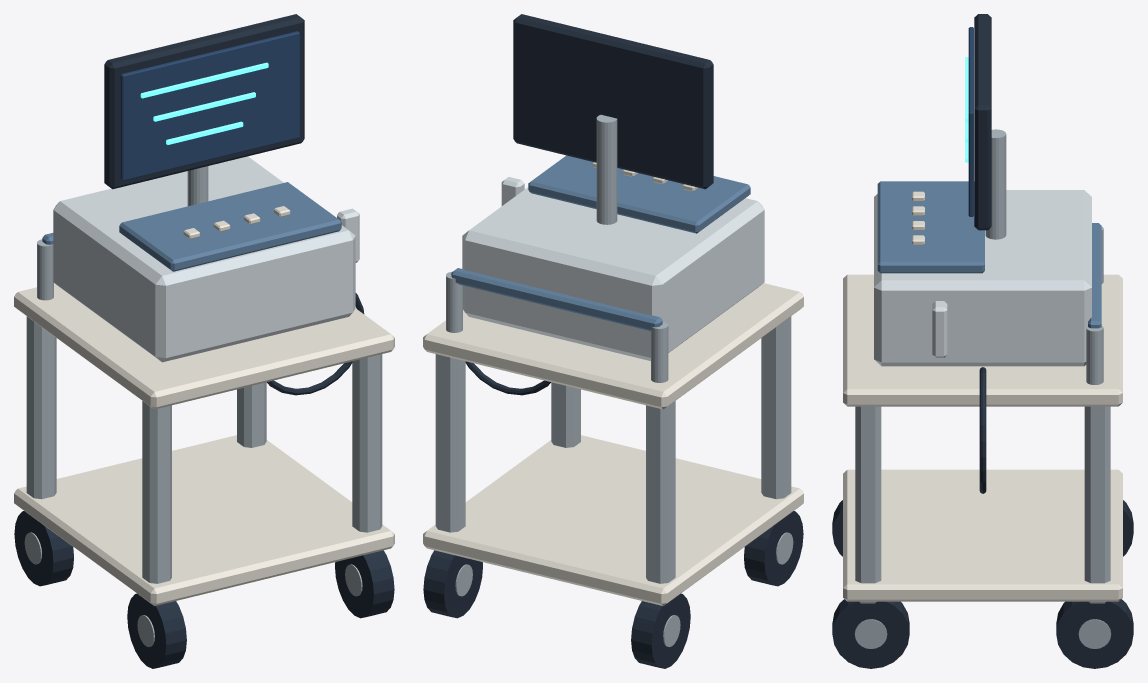
File: medical_02.glb
3 renders of one model, left to right at view 1: azimuth 30°, elevation 25°; view 2: azimuth 150°, elevation 25°; view 3: azimuth 270°, elevation 25°, orthographic.
Visible parts, largest first — view 1: Shelf (×2), InstrumentBody, Screen, Leg (×4), InputPanel, Wheel (×3), MonitorFrame, DisplayLine (×2), HandlePost, DisplayMast, ProbeCable, UltrasoundProbe; view 2: Shelf (×2), InstrumentBody, MonitorFrame, Leg (×4), Wheel (×3), InputPanel, PushHandle, DisplayMast, HandlePost (×2), ProbeCable; view 3: Shelf (×2), InstrumentBody, Leg (×2), InputPanel, Wheel (×4), MonitorFrame, DisplayMast, WheelHub (×2), Screen, PushHandle, HandlePost, ProbeCable (+1 smaller).
Boxes of the visible parts, box(x1,y1,x2,y2) form: Shelf (×2): box(14, 283, 394, 605); InstrumentBody: box(53, 156, 355, 362); Screen: box(120, 31, 299, 180); Leg (×4): box(26, 316, 382, 583); InputPanel: box(119, 182, 341, 271); Wheel (×3): box(14, 511, 394, 668); MonitorFrame: box(104, 14, 304, 189); DisplayLine (×2): box(140, 62, 268, 121); HandlePost: box(37, 239, 53, 300); DisplayMast: box(187, 166, 208, 206); ProbeCable: box(267, 293, 364, 395); UltrasoundProbe: box(337, 208, 359, 262); Shelf (×2): box(423, 283, 803, 605); InstrumentBody: box(462, 187, 764, 360); MonitorFrame: box(513, 14, 713, 189); Leg (×4): box(435, 316, 791, 583); Wheel (×3): box(423, 511, 803, 668); InputPanel: box(528, 155, 750, 233); PushHandle: box(451, 268, 662, 331); DisplayMast: box(596, 114, 617, 224); HandlePost (×2): box(446, 271, 668, 382); ProbeCable: box(465, 361, 550, 395); Shelf (×2): box(843, 274, 1122, 601); InstrumentBody: box(874, 190, 1091, 366); Leg (×2): box(855, 406, 1110, 603); InputPanel: box(877, 181, 984, 273); Wheel (×4): box(832, 500, 1133, 668); MonitorFrame: box(974, 14, 991, 230); DisplayMast: box(985, 129, 1006, 239); WheelHub (×2): box(854, 619, 1111, 648); Screen: box(968, 27, 973, 216); PushHandle: box(1088, 223, 1101, 328); HandlePost: box(1086, 326, 1103, 384); ProbeCable: box(979, 367, 986, 493).
Bounding box in the file's own units: 0.7525 × 1.42 × 0.7.
